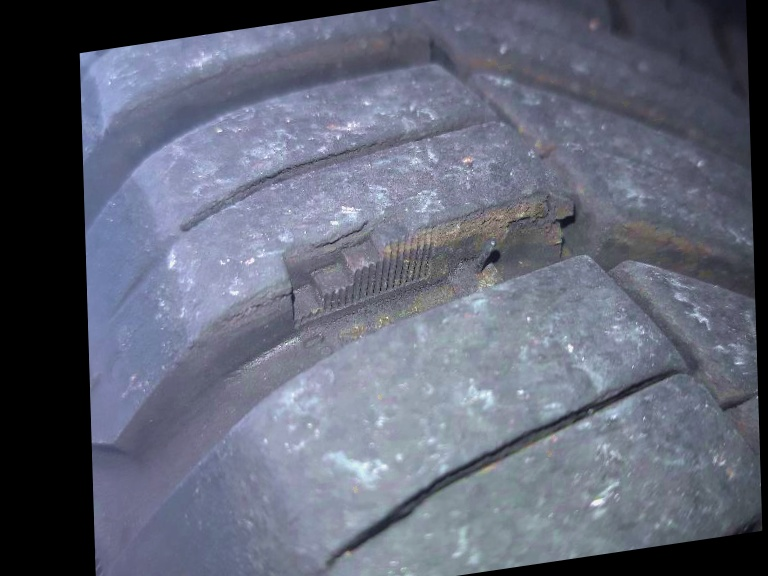temoin:80: (269, 188, 448, 340)
